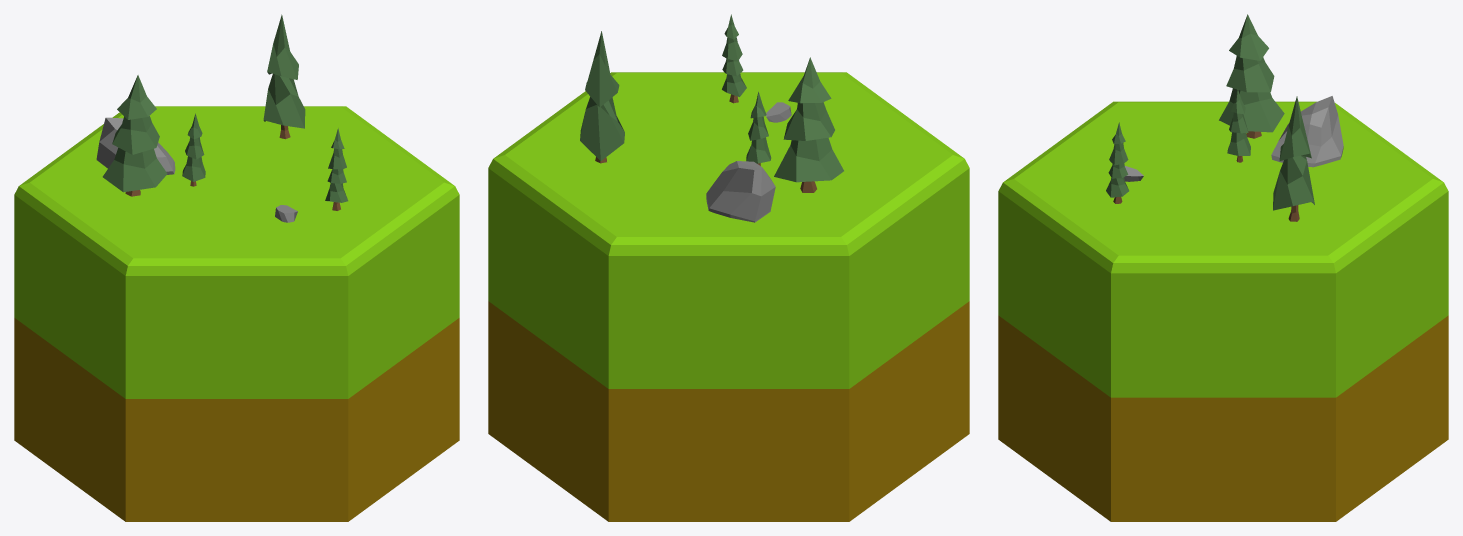
Rendered from Hex Tile MultipleTreesAndRocks 02.glb.
The picture shows the model from 3 angles, left to right: view 1: azimuth 30°, elevation 25°; view 2: azimuth 150°, elevation 25°; view 3: azimuth 270°, elevation 25°; orthographic projection. The views are drawn at different scales.
Parts seen in each view (by area): view 1: Hex.Tile.MultipleTreesAndRocks; view 2: Hex.Tile.MultipleTreesAndRocks; view 3: Hex.Tile.MultipleTreesAndRocks.
Boxes of the visible parts, x1,y1,x2,y2 form: Hex.Tile.MultipleTreesAndRocks: [14, 14, 459, 521]; Hex.Tile.MultipleTreesAndRocks: [488, 14, 969, 521]; Hex.Tile.MultipleTreesAndRocks: [998, 14, 1448, 521].
Bounding box in the file's own units: 1.73 × 1.88 × 2.
1 material, 1 textured.
